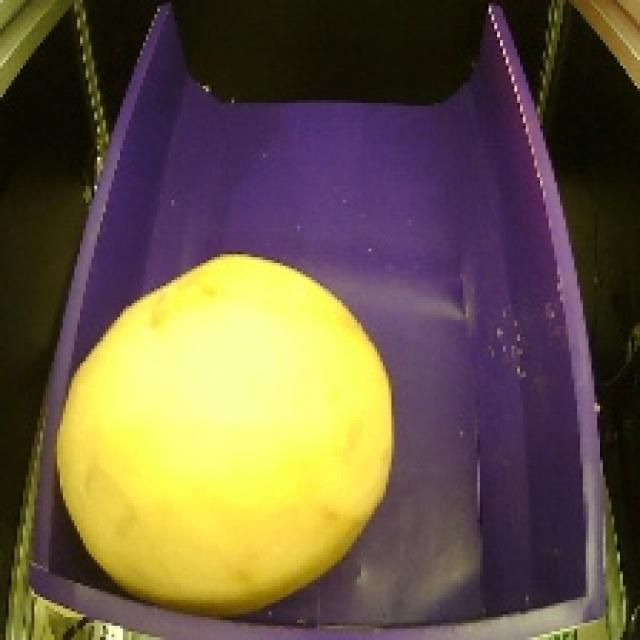full_potato: (44, 242, 404, 624)
